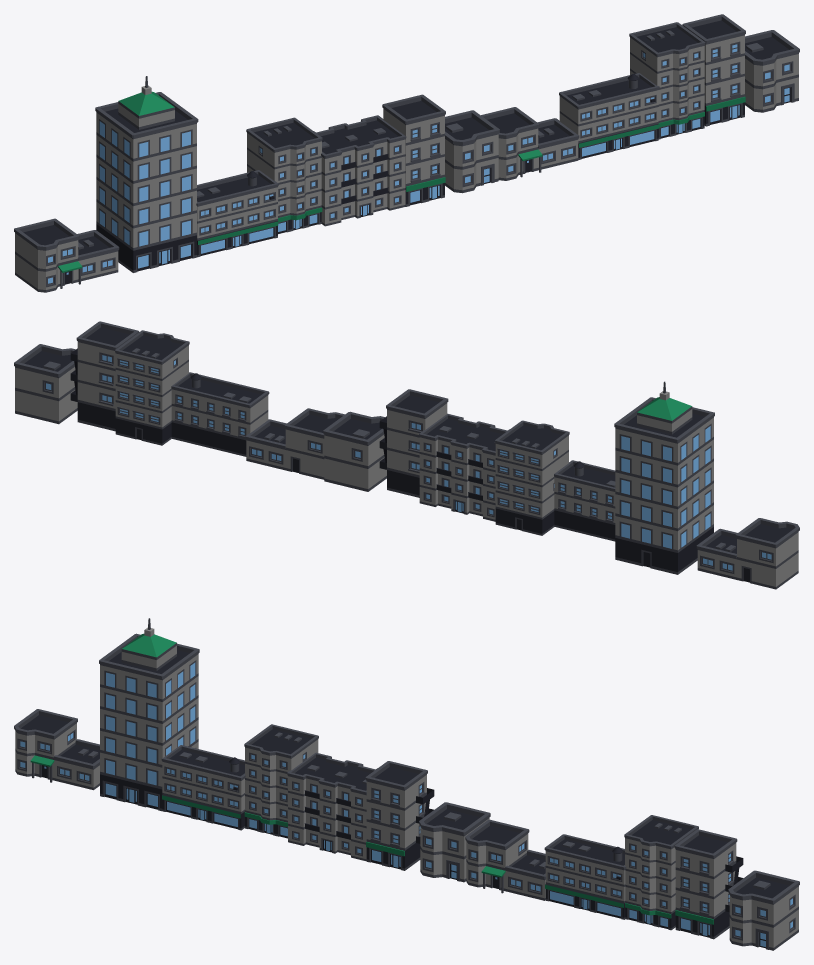
Rendered from buildings2.glb.
3 views of the same model, one above another, from view 1: azimuth 30°, elevation 25°; view 2: azimuth 150°, elevation 25°; view 3: azimuth 330°, elevation 25° (orthographic). The views are drawn at different scales.
Visible parts, largest first — view 1: node_id15, node_id31, node_id105, node_id115, node_id744, node_id760, node_id160, node_id86, node_id192, node_id747, node_id179, node_id712 (+33 smaller); view 2: node_id15, node_id31, node_id105, node_id179, node_id160, node_id747, node_id115, node_id744, node_id760, node_id76, node_id86, node_id47 (+31 smaller); view 3: node_id15, node_id31, node_id105, node_id115, node_id192, node_id86, node_id760, node_id712, node_id744, node_id747, node_id785, node_id788 (+30 smaller).
Boxes of the visible parts, x1,y1,x2,y2 form: node_id15: [96, 85, 196, 247]; node_id31: [95, 76, 198, 272]; node_id105: [321, 139, 405, 224]; node_id115: [314, 115, 406, 226]; node_id744: [630, 37, 704, 120]; node_id760: [559, 73, 659, 159]; node_id160: [247, 133, 321, 215]; node_id86: [14, 218, 119, 292]; node_id192: [196, 170, 278, 257]; node_id747: [629, 22, 705, 139]; node_id179: [246, 117, 322, 232]; node_id712: [481, 107, 579, 180]; node_id15: [615, 391, 713, 550]; node_id31: [614, 381, 714, 574]; node_id105: [419, 437, 495, 519]; node_id179: [495, 420, 569, 535]; node_id160: [495, 435, 568, 517]; node_id747: [115, 330, 189, 445]; node_id115: [419, 413, 509, 521]; node_id744: [115, 345, 188, 427]; node_id760: [171, 372, 269, 456]; node_id76: [697, 532, 798, 586]; node_id86: [696, 518, 799, 589]; node_id47: [324, 434, 386, 488]; node_id15: [100, 627, 198, 786]; node_id31: [99, 618, 199, 811]; node_id105: [288, 776, 366, 859]; node_id115: [287, 752, 377, 861]; node_id192: [161, 745, 245, 830]; node_id86: [14, 709, 99, 790]; node_id760: [544, 834, 626, 919]; node_id712: [465, 819, 546, 900]; node_id744: [625, 838, 675, 911]; node_id747: [624, 815, 698, 930]; node_id785: [674, 829, 737, 939]; node_id788: [675, 843, 736, 916].
Bounding box in the file's own units: 0.1225 × 0.0268 × 0.0106.
Materials: 106 (106 with a texture image).
